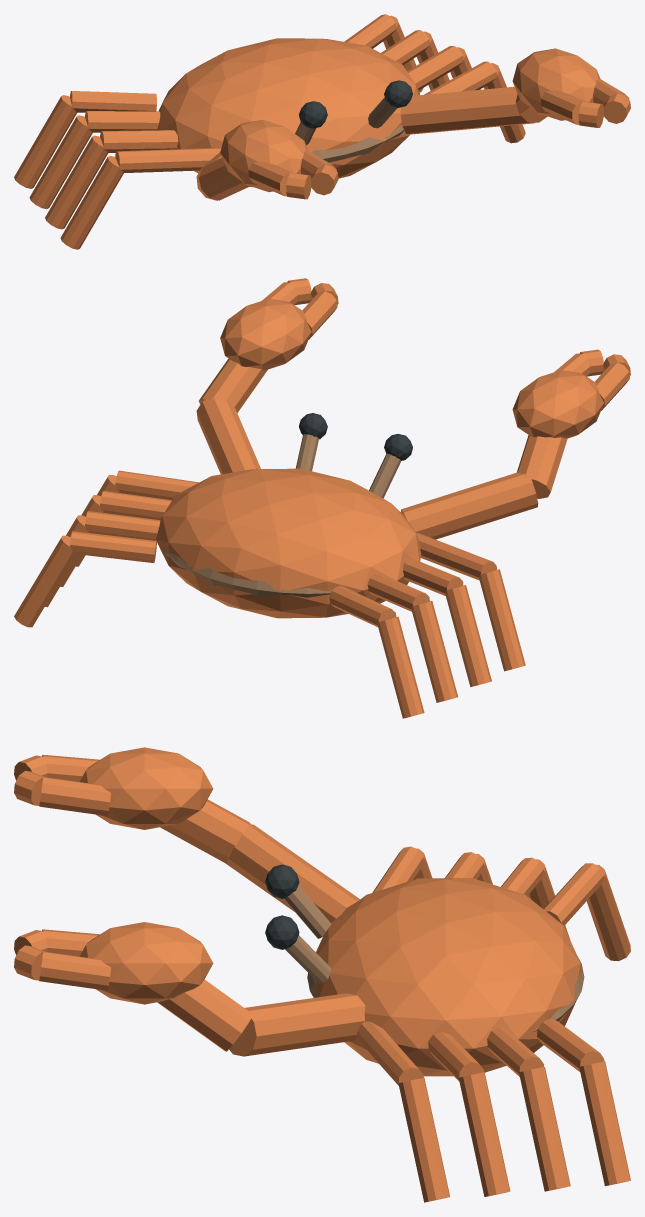
File: harbor-and-tackle-shore-crab-ad937d04__19589.glb
The picture shows the model from 3 angles, top to bottom: view 1: azimuth 30°, elevation 25°; view 2: azimuth 150°, elevation 25°; view 3: azimuth 270°, elevation 25°; orthographic projection. The views are drawn at different scales.
Parts seen in each view (by area): view 1: orange, cedar, rubber; view 2: orange, cedar, rubber; view 3: orange, cedar, rubber.
Part boxes in pixels (x1=…): orange: x1=14, y1=14, x2=630, y2=249; cedar: x1=295, y1=97, x2=404, y2=162; rubber: x1=299, y1=80, x2=412, y2=128; orange: x1=14, y1=278, x2=630, y2=718; cedar: x1=162, y1=434, x2=401, y2=597; rubber: x1=299, y1=413, x2=412, y2=460; orange: x1=14, y1=747, x2=630, y2=1202; cedar: x1=284, y1=885, x2=584, y2=1031; rubber: x1=265, y1=864, x2=299, y2=949.
Bounding box in the file's own units: 0.759 × 0.2974 × 0.7169.
